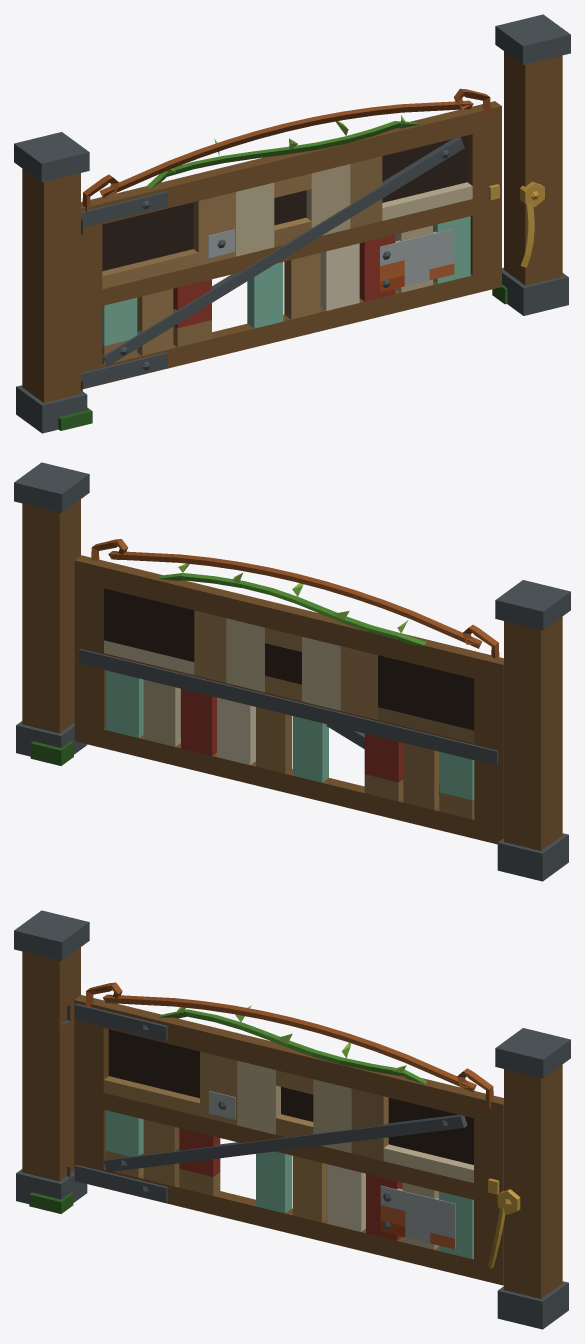
Rendered from salvage-fence-gate-42350a.glb.
3 renders of one model, top to bottom at view 1: azimuth 30°, elevation 25°; view 2: azimuth 150°, elevation 25°; view 3: azimuth 330°, elevation 25°, orthographic.
Visible parts, largest first — view 1: gate-leaf-mesh, gate-frame; view 2: gate-leaf-mesh, gate-frame; view 3: gate-leaf-mesh, gate-frame.
Boxes of the visible parts, x1=… form: gate-leaf-mesh: x1=81, y1=88, x2=501, y2=389; gate-frame: x1=14, y1=14, x2=570, y2=433; gate-leaf-mesh: x1=74, y1=539, x2=503, y2=844; gate-frame: x1=14, y1=462, x2=570, y2=881; gate-leaf-mesh: x1=74, y1=982, x2=503, y2=1285; gate-frame: x1=14, y1=910, x2=570, y2=1329.
Bounding box in the file's own units: 3.98 × 1.95 × 0.492.
